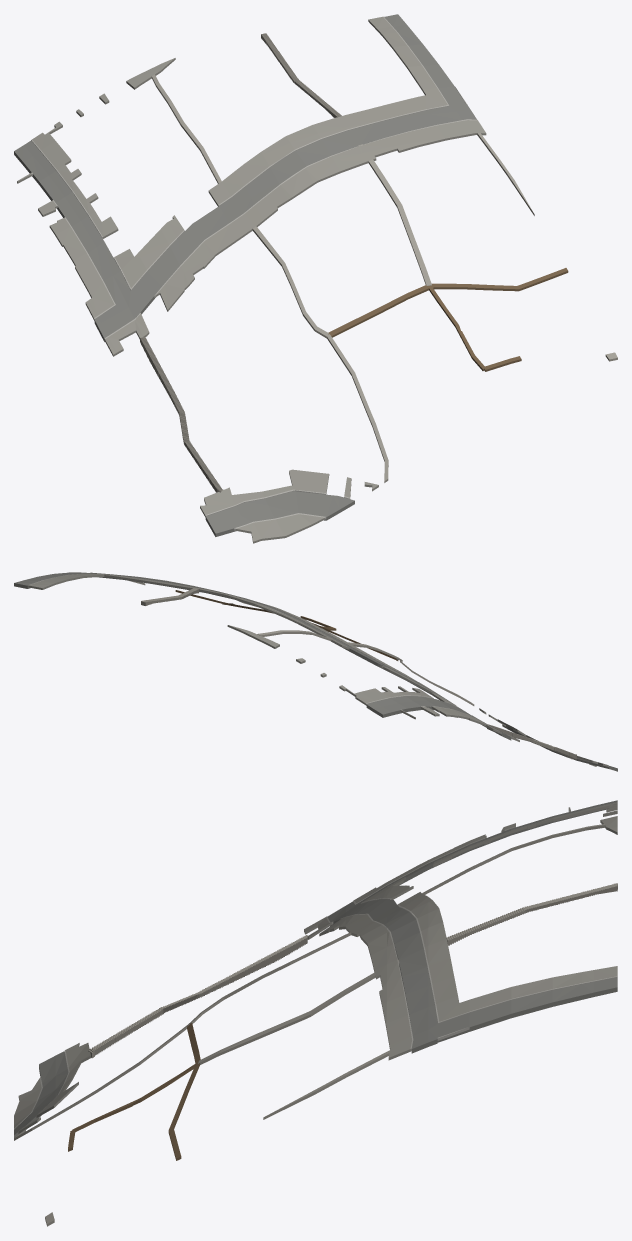
3 renders of one model, top to bottom at view 1: azimuth 30°, elevation 25°; view 2: azimuth 150°, elevation 25°; view 3: azimuth 270°, elevation 25°, orthographic. The views are drawn at different scales.
Bounding box in the file's own units: 147 × 97.65 × 146.
